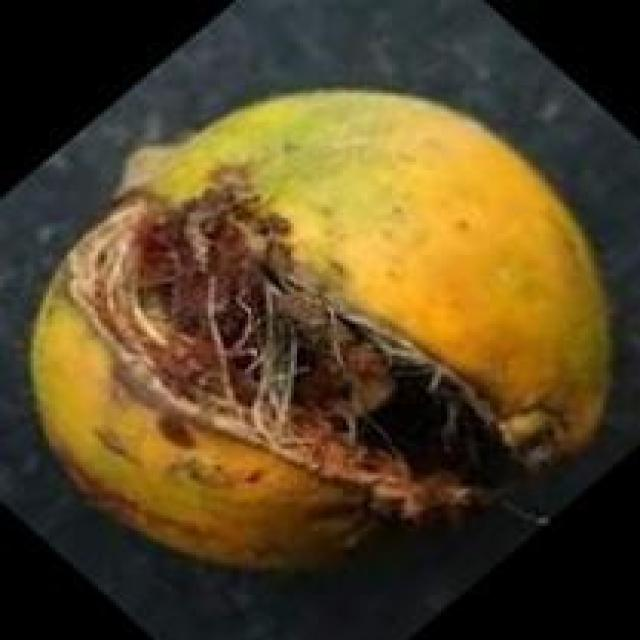damaged: (34, 93, 606, 563)
